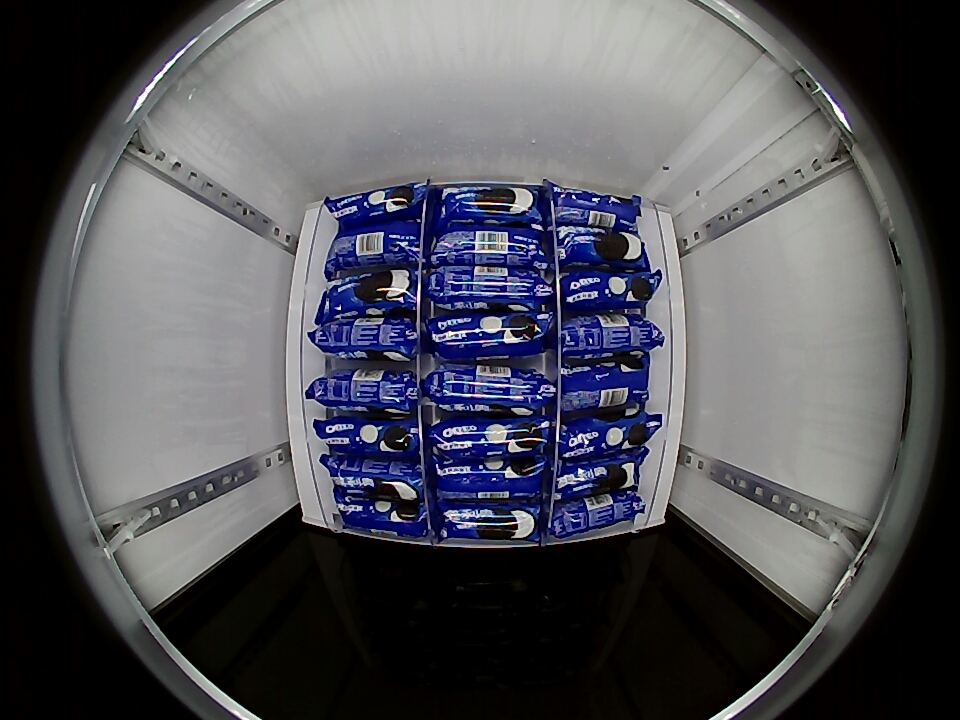aoliao: (426, 362, 553, 417), (430, 415, 544, 471), (428, 309, 550, 360), (429, 265, 549, 316), (435, 495, 542, 547), (431, 224, 547, 271), (435, 182, 544, 232), (326, 220, 424, 275), (331, 490, 431, 543), (323, 180, 428, 229), (317, 367, 418, 416), (546, 489, 642, 539), (561, 359, 650, 412), (436, 456, 543, 500), (312, 414, 416, 458), (554, 447, 640, 500), (560, 265, 652, 314), (324, 454, 426, 498), (320, 318, 423, 361), (548, 188, 643, 233), (322, 276, 422, 315), (554, 226, 652, 265), (558, 414, 638, 461), (563, 313, 642, 360)
